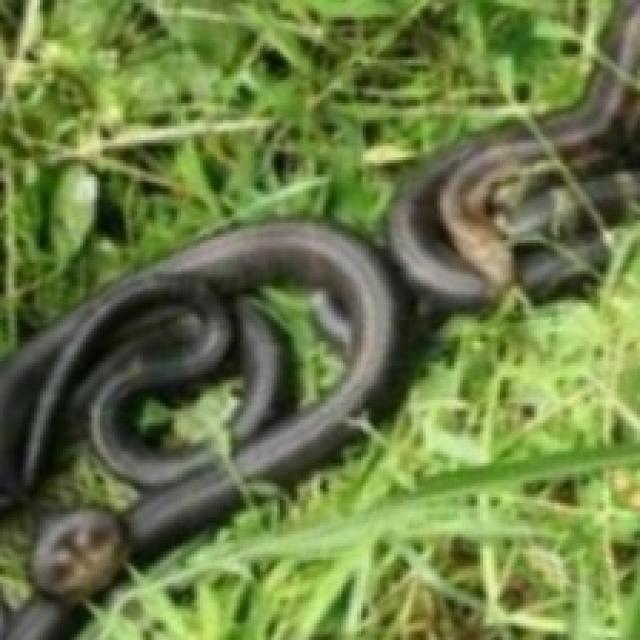king cobra: (77, 200, 637, 637), (0, 0, 614, 354)
